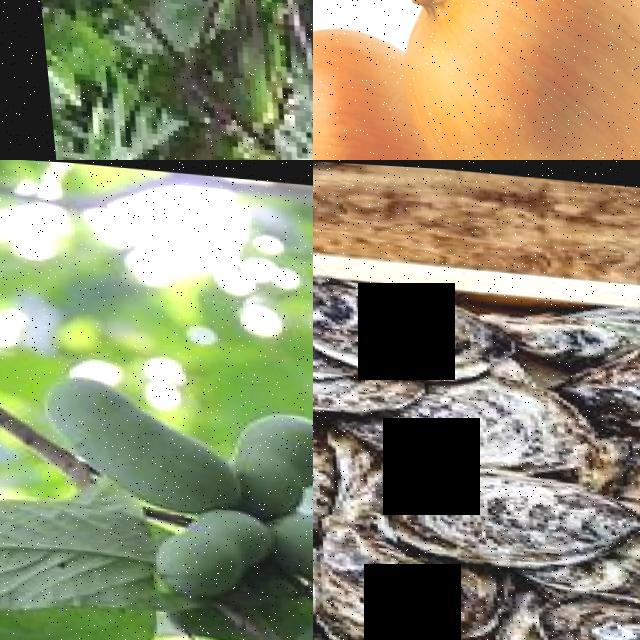onion: (398, 0, 640, 160), (313, 6, 426, 160)
oysters: (373, 458, 631, 571), (365, 373, 578, 475), (313, 268, 487, 378), (313, 517, 455, 640), (564, 336, 640, 446), (525, 580, 640, 640), (590, 427, 640, 530), (313, 397, 343, 518)
